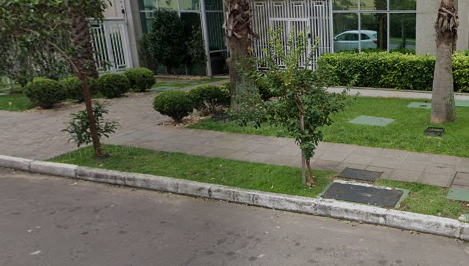vag70: (1, 121, 359, 237)
